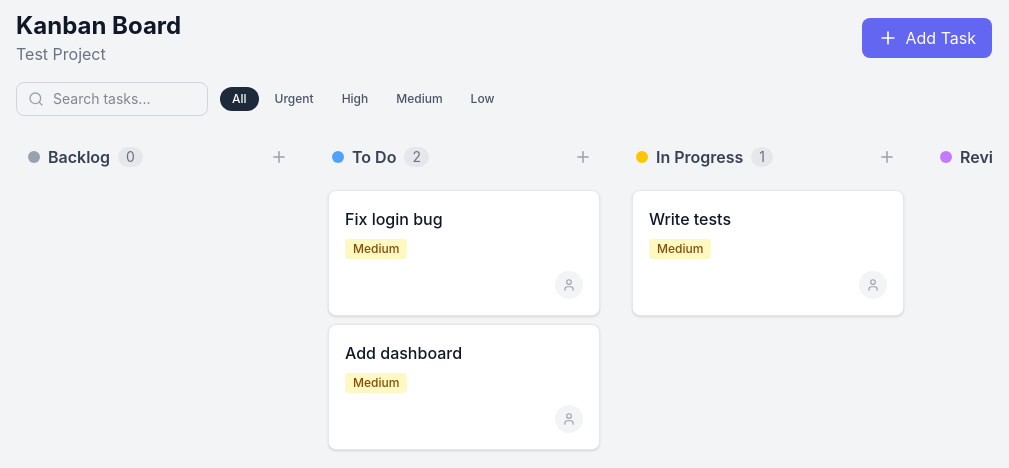
Test case: KanbanPage › filters tasks by search query
This screenshot has width=1009, height=468.
Expected: the heading "Fix login bug" is shown, [345, 209, 443, 229]
Step 1. Type "login" into the field labelled "Search tasks" → (112, 99), box [16, 82, 208, 116]
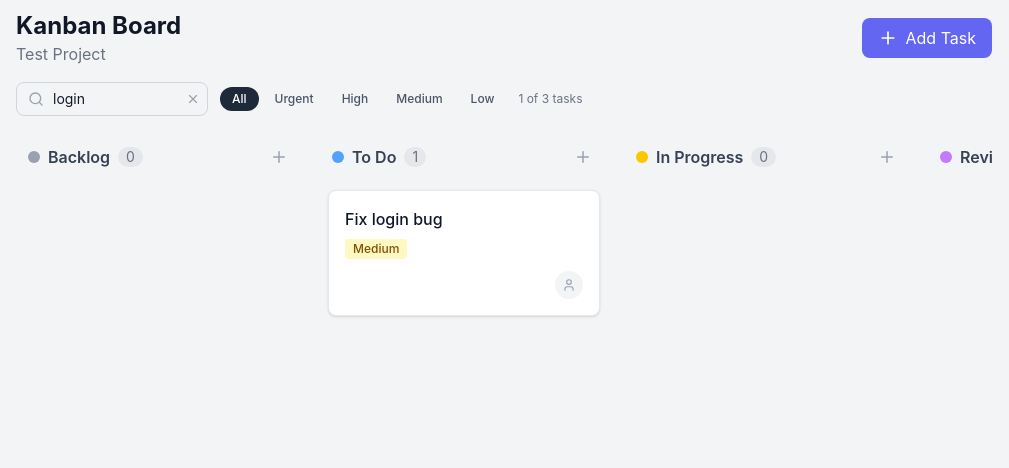
Result: the button "Add dashboard" is gone
Result: the button "Write tests" is gone
Result: the text "1 of 3 tasks" is shown at [518, 91, 582, 107]
